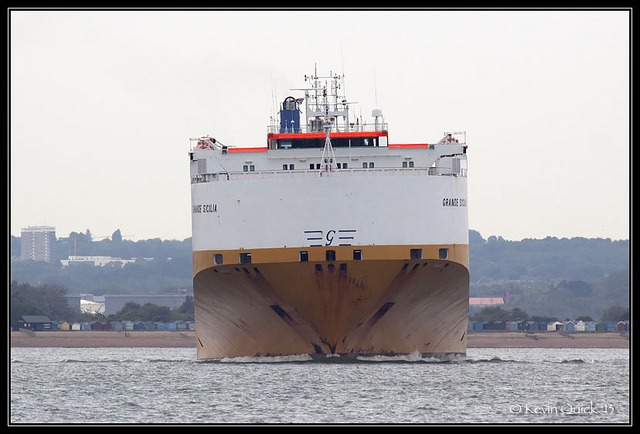PCC: (187, 72, 475, 362)
